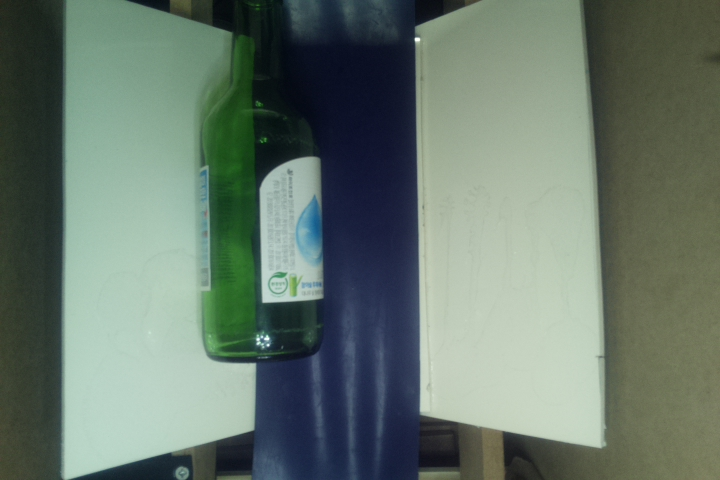soju: (195, 1, 328, 364)
